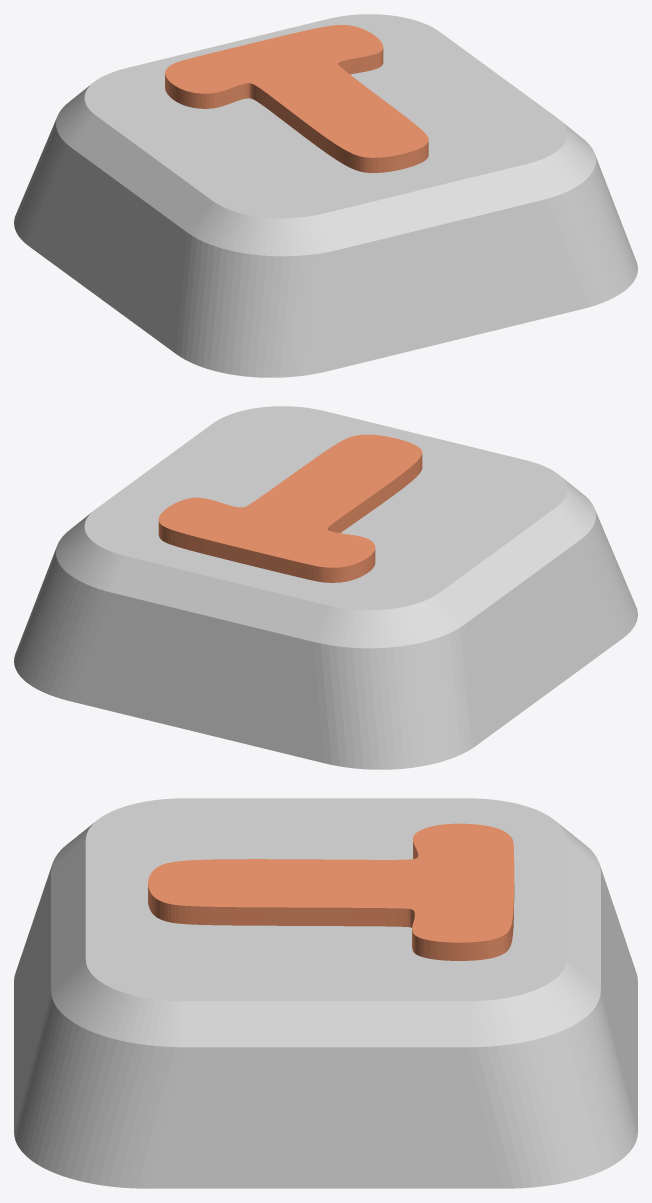
The model's file is cap-T.glb.
3 renders of one model, top to bottom at view 1: azimuth 30°, elevation 25°; view 2: azimuth 150°, elevation 25°; view 3: azimuth 270°, elevation 25°, orthographic. The views are drawn at different scales.
Parts seen in each view (by area): view 1: cap_0, glyph_1; view 2: cap_0, glyph_1; view 3: cap_0, glyph_1.
Boxes of the visible parts, <box> form: cap_0: <box>14,14,637,377</box>; glyph_1: <box>165,25,428,172</box>; cap_0: <box>14,406,637,769</box>; glyph_1: <box>158,434,422,582</box>; cap_0: <box>14,798,637,1188</box>; glyph_1: <box>148,823,514,960</box>.
Bounding box in the file's own units: 18 × 5.59 × 18.
